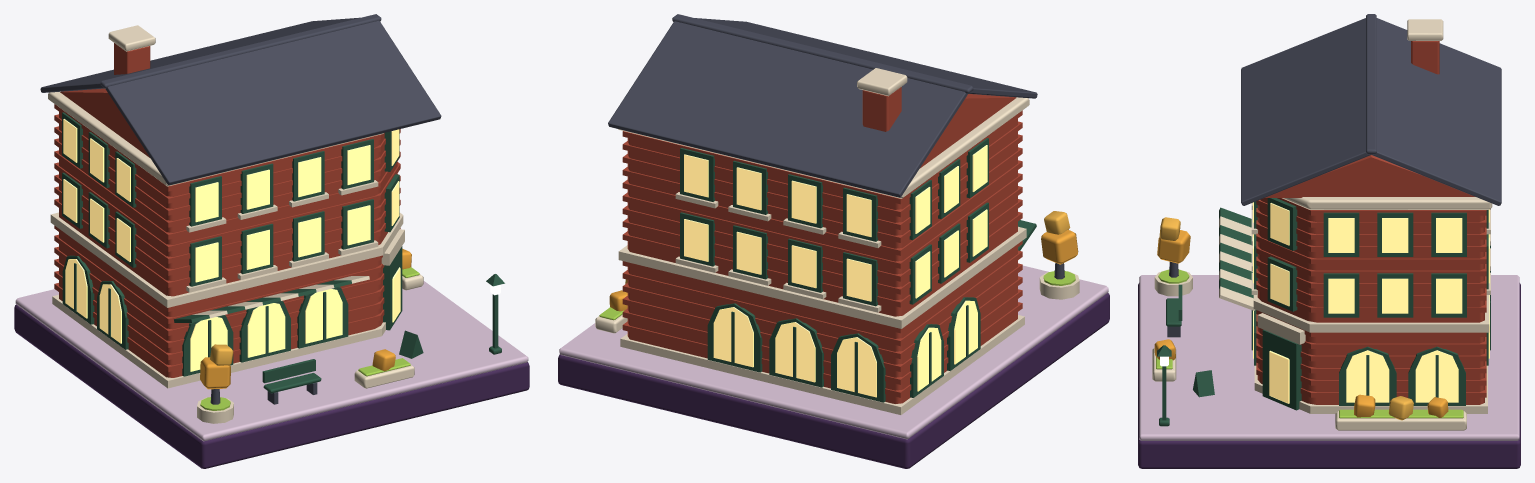
File: modern_building_2_1Level_Demo.glb
The picture shows the model from 3 angles, left to right: view 1: azimuth 30°, elevation 25°; view 2: azimuth 150°, elevation 25°; view 3: azimuth 270°, elevation 25°; orthographic projection. The views are drawn at different scales.
Parts seen in each view (by area): view 1: MB2_1_Slate1, MB2_1_Brick1, MB2_1_Paving, MB2_1_Green1, MB2_1_Glass1, MB2_1_Base, MB2_1_Stone1, MB2_1_Leaf, MB2_1_Grass; view 2: MB2_1_Brick1, MB2_1_Slate1, MB2_1_Glass1, MB2_1_Base, MB2_1_Stone1, MB2_1_Green1, MB2_1_Paving, MB2_1_Leaf; view 3: MB2_1_Slate1, MB2_1_Brick1, MB2_1_Paving, MB2_1_Green1, MB2_1_Stone1, MB2_1_Glass1, MB2_1_Base, MB2_1_Leaf, MB2_1_Grass, MB2_1_Leaf2.
Boxes of the visible parts, <box> form: MB2_1_Slate1: <box>40,14,441,404</box>; MB2_1_Brick1: <box>54,43,400,377</box>; MB2_1_Paving: <box>15,281,528,441</box>; MB2_1_Green1: <box>62,112,504,393</box>; MB2_1_Glass1: <box>63,119,400,371</box>; MB2_1_Base: <box>14,304,529,468</box>; MB2_1_Stone1: <box>48,25,423,423</box>; MB2_1_Leaf: <box>200,248,411,389</box>; MB2_1_Grass: <box>200,267,419,410</box>; MB2_1_Brick1: <box>622,87,1022,403</box>; MB2_1_Slate1: <box>608,14,1064,279</box>; MB2_1_Glass1: <box>684,145,987,397</box>; MB2_1_Base: <box>558,293,1109,468</box>; MB2_1_Stone1: <box>595,68,1079,414</box>; MB2_1_Green1: <box>680,138,1036,402</box>; MB2_1_Paving: <box>559,265,1108,439</box>; MB2_1_Leaf: <box>609,229,1078,311</box>; MB2_1_Slate1: <box>1167,14,1501,337</box>; MB2_1_Brick1: <box>1256,41,1486,404</box>; MB2_1_Paving: <box>1139,275,1519,440</box>; MB2_1_Green1: <box>1157,198,1490,426</box>; MB2_1_Stone1: <box>1152,19,1492,430</box>; MB2_1_Glass1: <box>1253,202,1489,403</box>; MB2_1_Base: <box>1138,283,1520,468</box>; MB2_1_Leaf: <box>1154,230,1448,417</box>; MB2_1_Grass: <box>1156,269,1463,418</box>; MB2_1_Leaf2: <box>1159,217,1413,420</box>.
Size of the model in its own units: 3.2 by 2.93 by 3.2.
